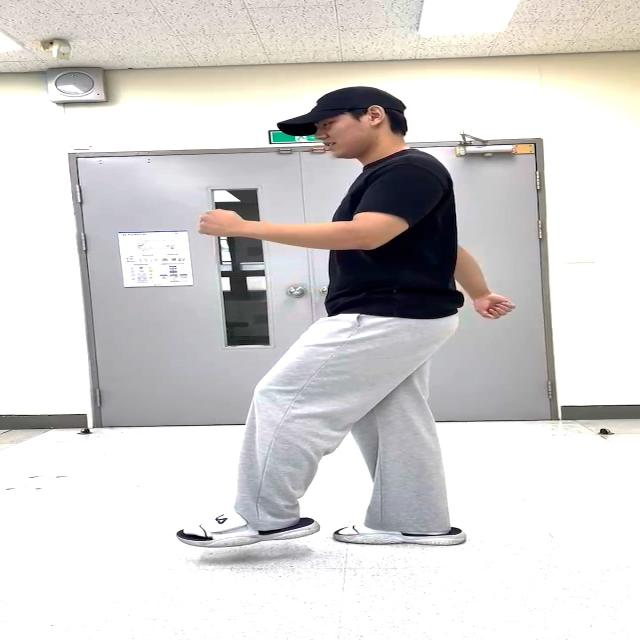leg: (154, 312, 372, 560)
